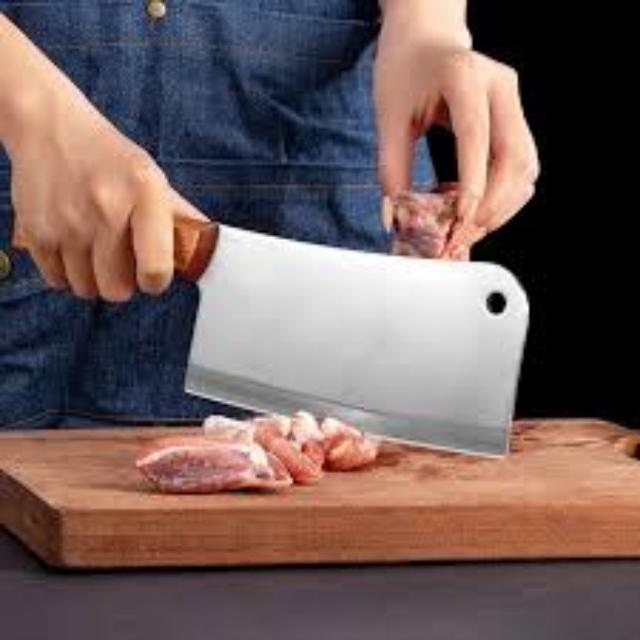Knife: (1, 210, 530, 458)
Person: (0, 4, 558, 430)
Weapon Holding: (18, 124, 204, 302)
